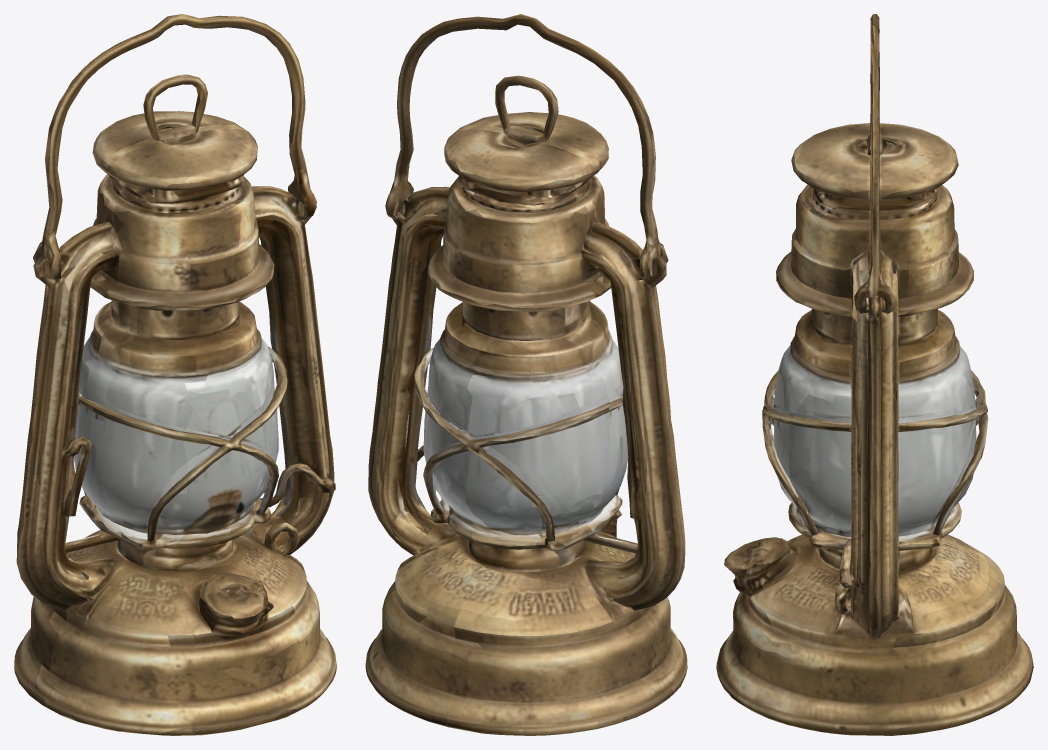
Rendered from model_glb.glb.
3 renders of one model, left to right at view 1: azimuth 30°, elevation 25°; view 2: azimuth 150°, elevation 25°; view 3: azimuth 270°, elevation 25°, orthographic.
Parts seen in each view (by area): view 1: geometry_0; view 2: geometry_0; view 3: geometry_0.
Part boxes in pixels (x1,y1,x2,y2): geometry_0: (14,14,336,735); geometry_0: (365,14,687,735); geometry_0: (716,14,1033,735).
Size of the model in its own units: 0.1622 by 0.32 by 0.1433.
Materials: 1 (1 with a texture image).
